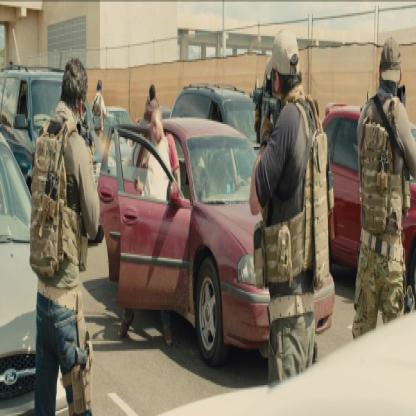Guns: (246, 80, 282, 143), (75, 116, 100, 165)
